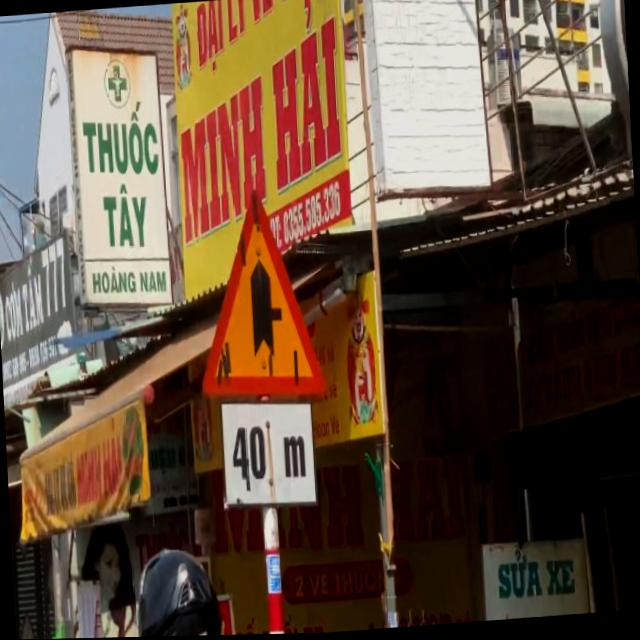Giao nhau voi duong khong uu tien ben phai: (190, 184, 330, 408)
